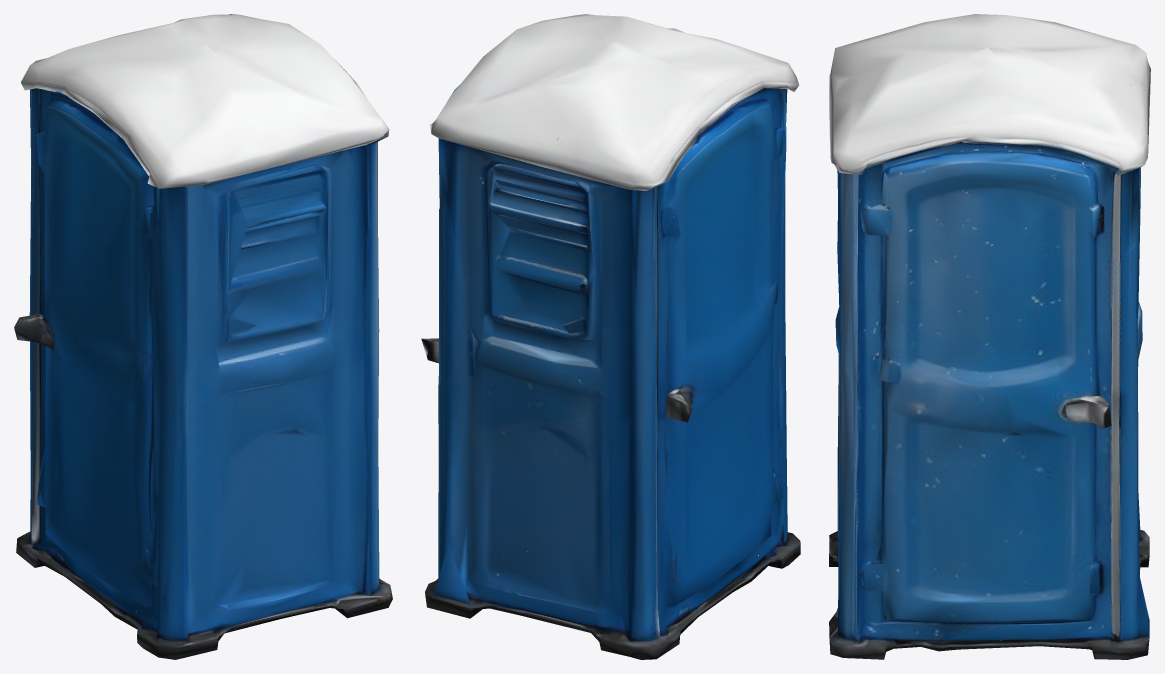
Rendered from qr_toilet.glb.
The picture shows the model from 3 angles, left to right: view 1: azimuth 30°, elevation 25°; view 2: azimuth 150°, elevation 25°; view 3: azimuth 270°, elevation 25°; orthographic projection. The views are drawn at different scales.
Parts seen in each view (by area): view 1: tripo_node_5c2c6374-cba7-45a6-bcc1-f45d51f5131a; view 2: tripo_node_5c2c6374-cba7-45a6-bcc1-f45d51f5131a; view 3: tripo_node_5c2c6374-cba7-45a6-bcc1-f45d51f5131a.
Part boxes in pixels (box(x1,y1,x2,y2)): tripo_node_5c2c6374-cba7-45a6-bcc1-f45d51f5131a: box(14, 14, 392, 659); tripo_node_5c2c6374-cba7-45a6-bcc1-f45d51f5131a: box(421, 14, 800, 659); tripo_node_5c2c6374-cba7-45a6-bcc1-f45d51f5131a: box(829, 14, 1150, 659).
Size of the model in its own units: 0.5306 by 1 by 0.5273.
1 material, 1 textured.
